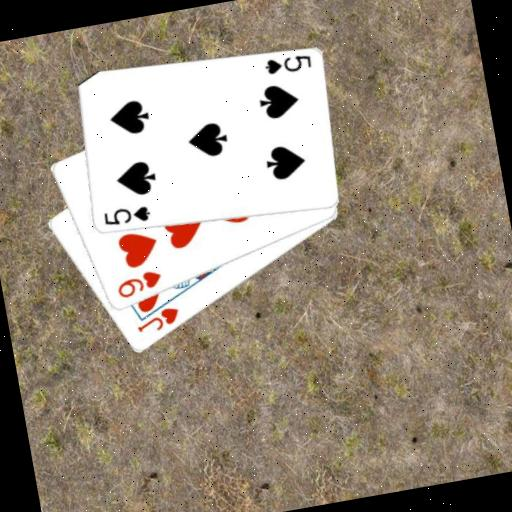5S: (99, 200, 153, 231), (260, 50, 313, 79)
9H: (111, 266, 165, 301)
JH: (131, 302, 183, 336)
